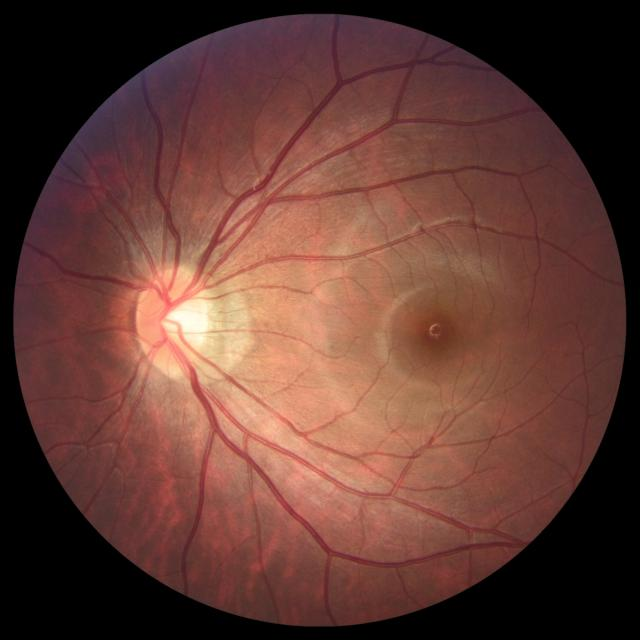OC: (153, 293, 207, 350)
OD: (135, 266, 210, 375)
